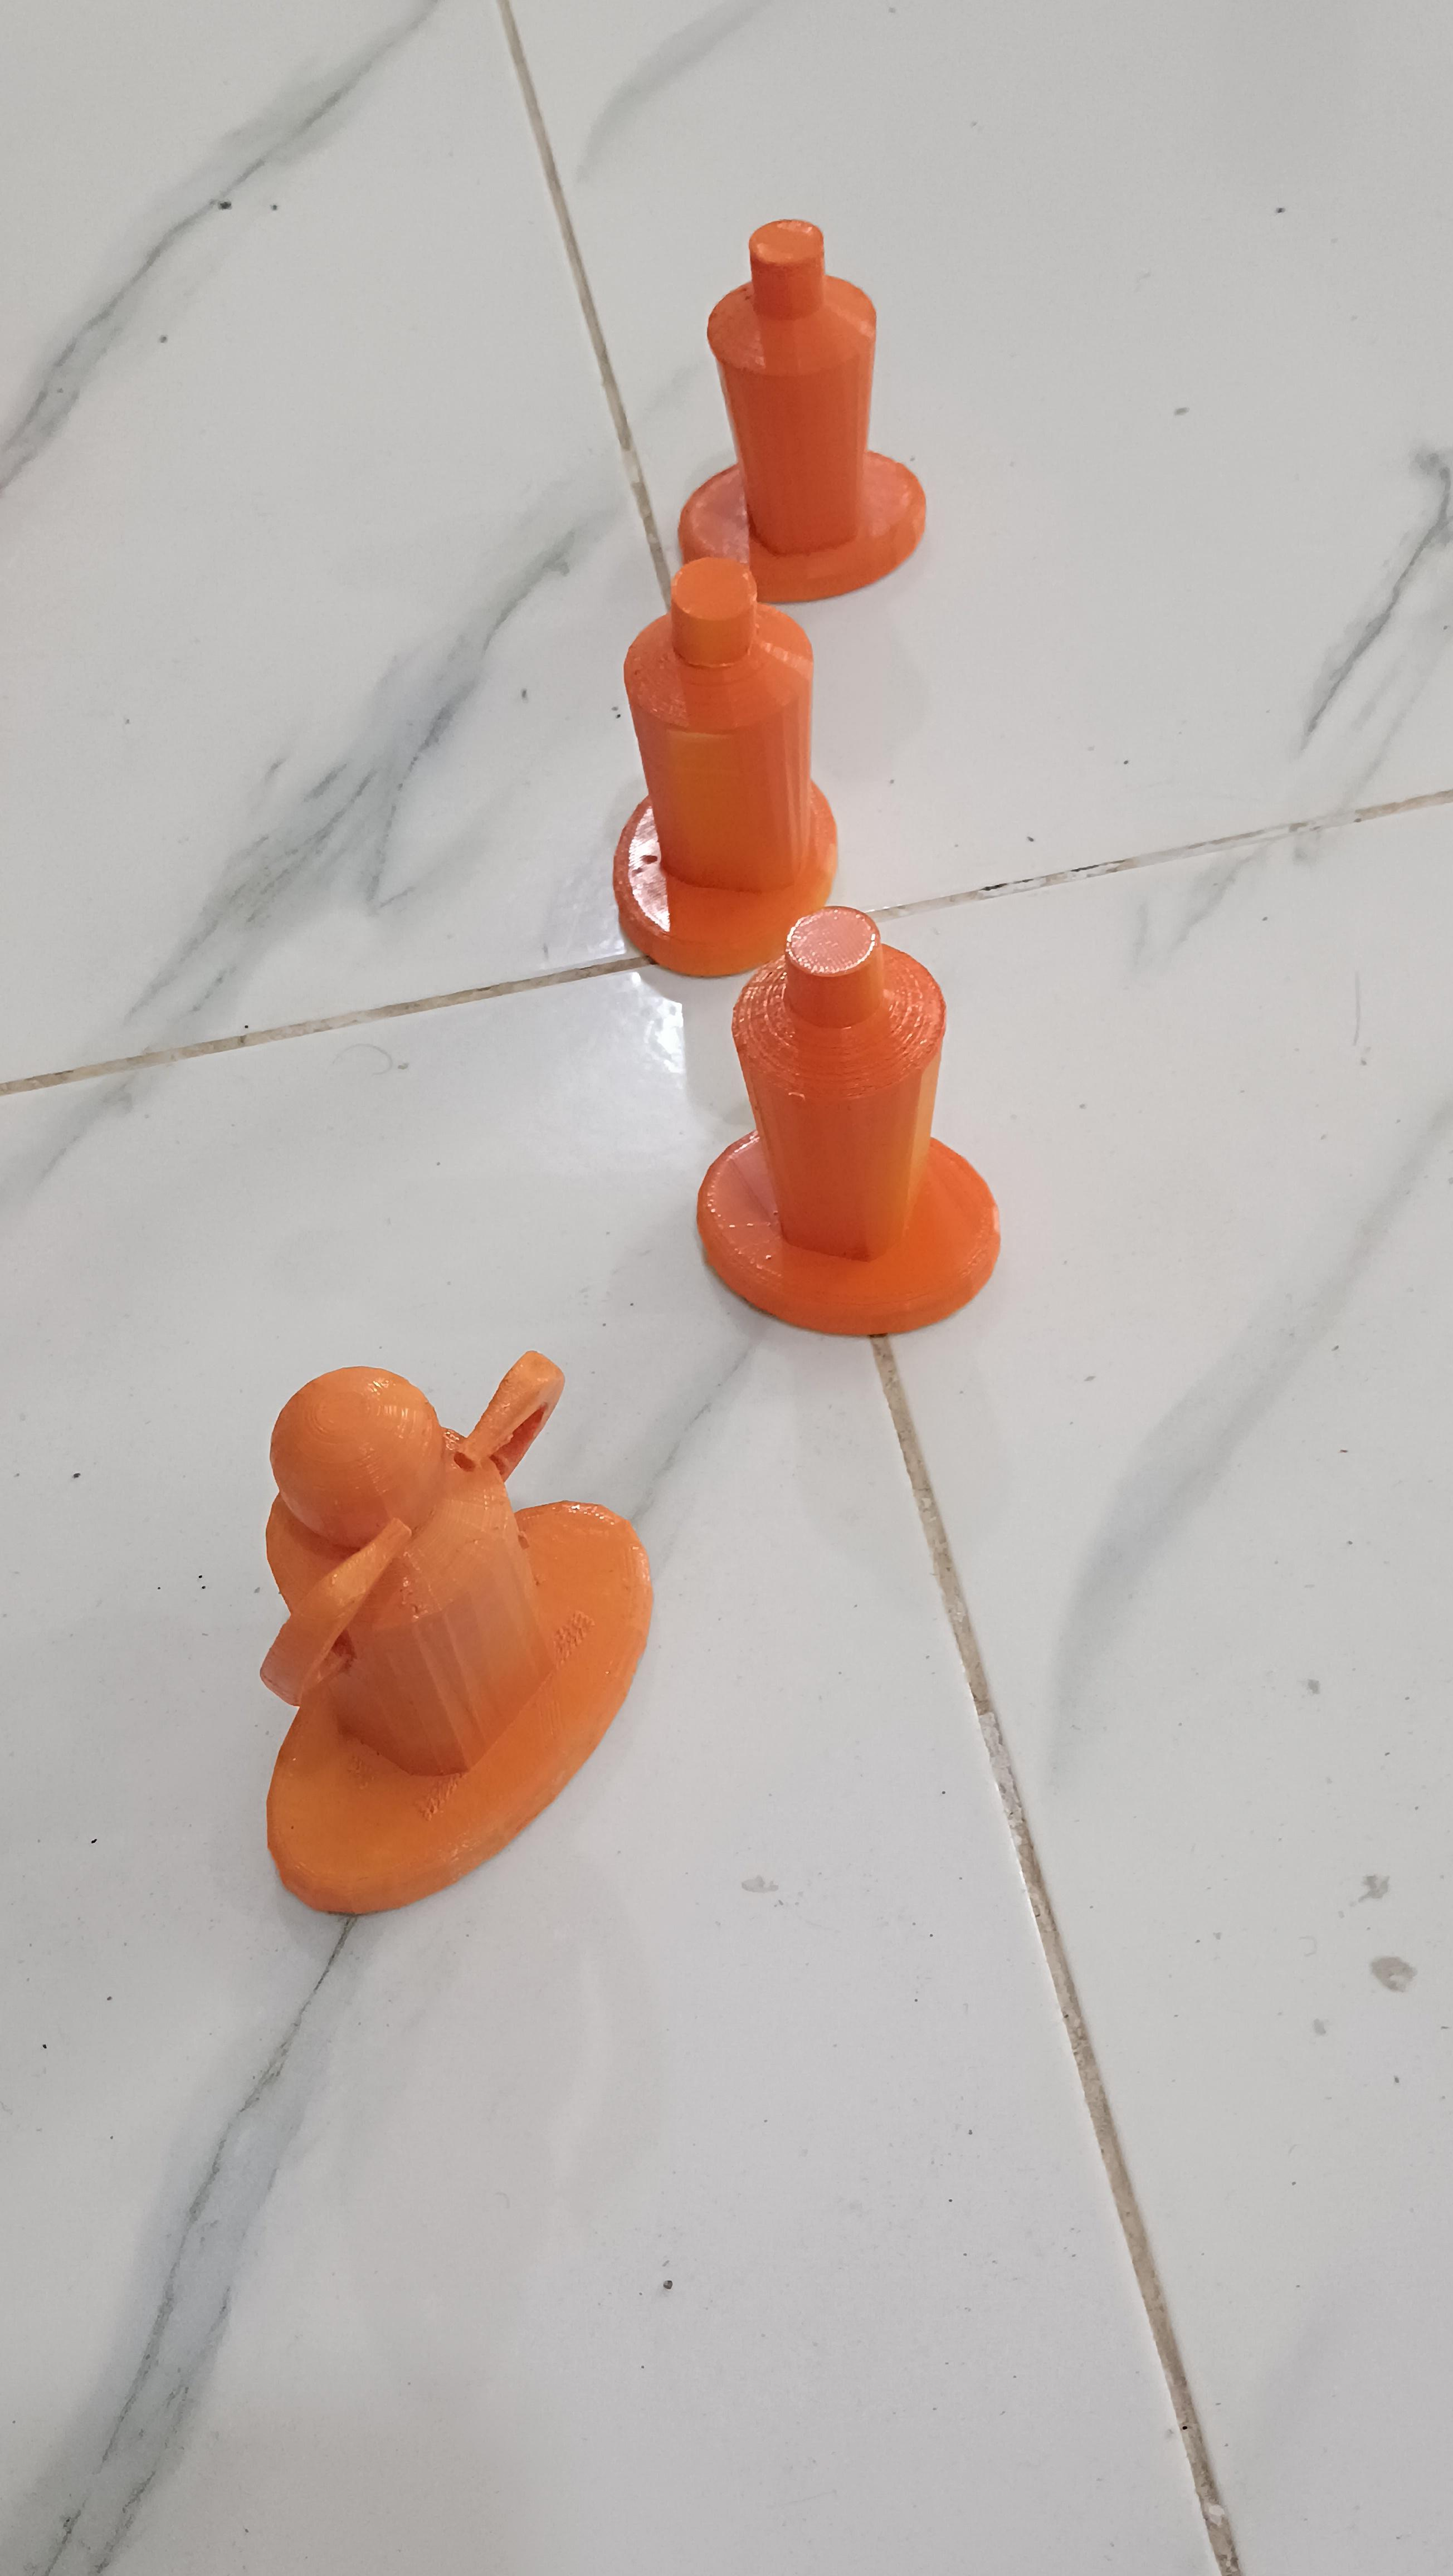dummy: (699, 911, 1020, 1353), (550, 529, 870, 909), (669, 170, 940, 553)
real_person: (131, 1345, 696, 1954)
